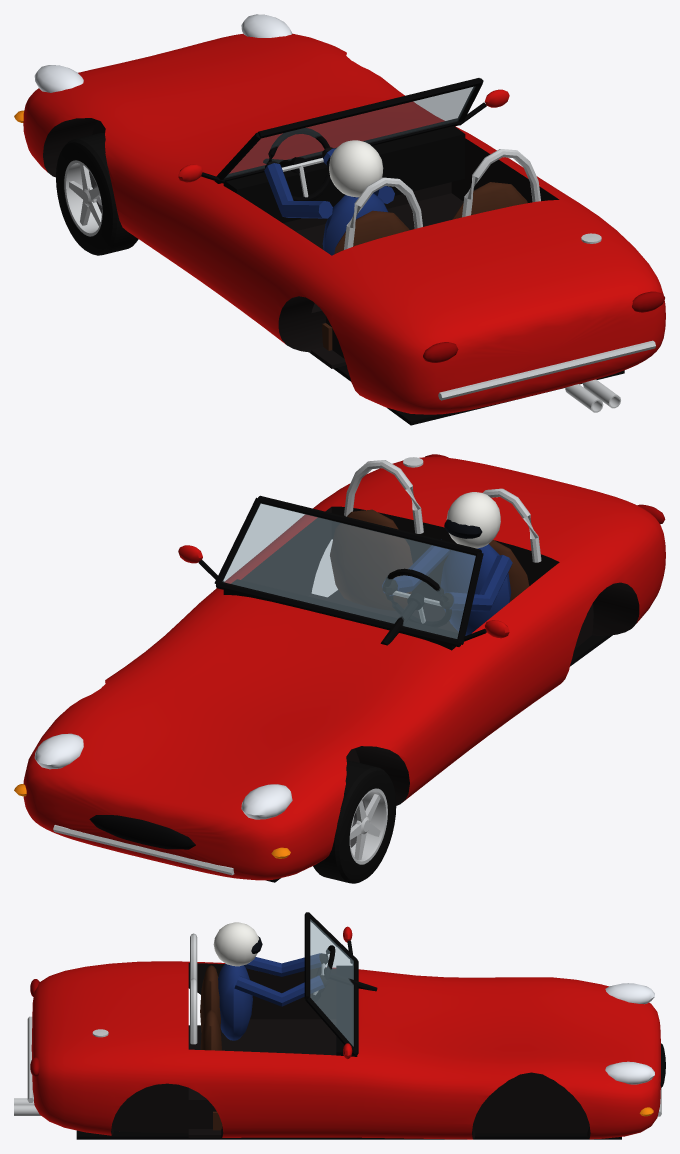
The model's file is roadster.glb.
3 views of the same model, one above another, from view 1: azimuth 30°, elevation 25°; view 2: azimuth 150°, elevation 25°; view 3: azimuth 270°, elevation 25° (orthographic). The views are drawn at different scales.
Parts seen in each view (by area): view 1: body, cockpit, frame, windscreen, wheel, driver, trim, headlights, steering_wheel, brake_lights, underside; view 2: body, windscreen, cockpit, frame, driver, wheel, trim, headlights, steering_wheel; view 3: body, driver, windscreen, cockpit, frame, underside, headlights, trim, steering_wheel.
Boxes of the visible parts, x1,y1,x2,y2 form: body: (23, 33, 665, 414); cockpit: (223, 126, 527, 368); frame: (178, 78, 540, 249); windscreen: (225, 86, 475, 177); wheel: (56, 133, 138, 255); driver: (264, 140, 394, 255); trim: (438, 233, 655, 412); headlights: (14, 14, 292, 122); steering_wheel: (263, 128, 331, 200); brake_lights: (423, 291, 664, 362); underside: (333, 365, 624, 425); body: (23, 456, 665, 880); windscreen: (222, 503, 475, 638); cockpit: (223, 509, 529, 650); frame: (178, 460, 541, 646); driver: (382, 492, 512, 635); wheel: (313, 761, 396, 883); trim: (53, 457, 423, 875); headlights: (14, 733, 292, 858); steering_wheel: (380, 568, 451, 645); body: (31, 961, 660, 1139); driver: (213, 922, 328, 1040); windscreen: (310, 919, 353, 1046); cockpit: (188, 965, 357, 1137); frame: (190, 912, 358, 1059); underside: (76, 1130, 621, 1139); headlights: (605, 983, 654, 1116); trim: (14, 1016, 665, 1116); steering_wheel: (312, 945, 377, 1001).
Bounding box in the file's own units: 1.86 × 1.22 × 4.06.
